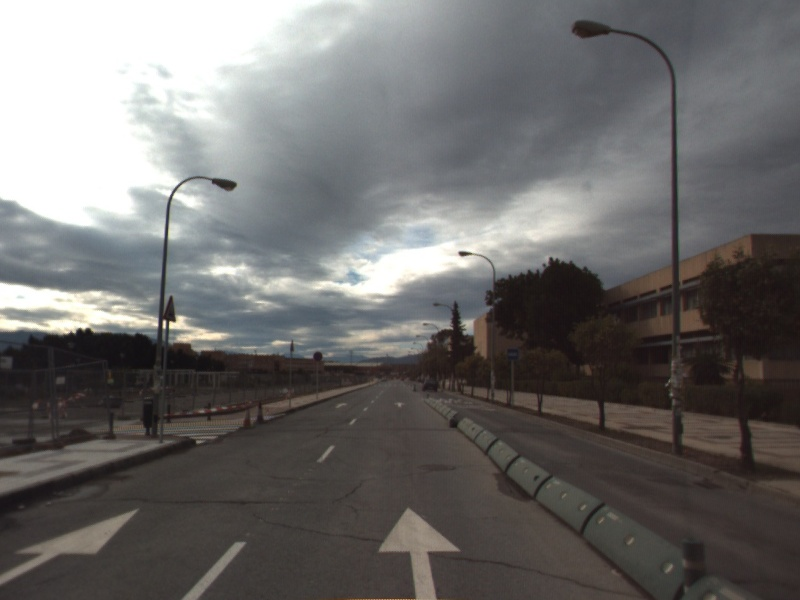STRAIGHT: (1, 506, 143, 583), (375, 503, 464, 600), (333, 401, 349, 410), (393, 400, 407, 409)
